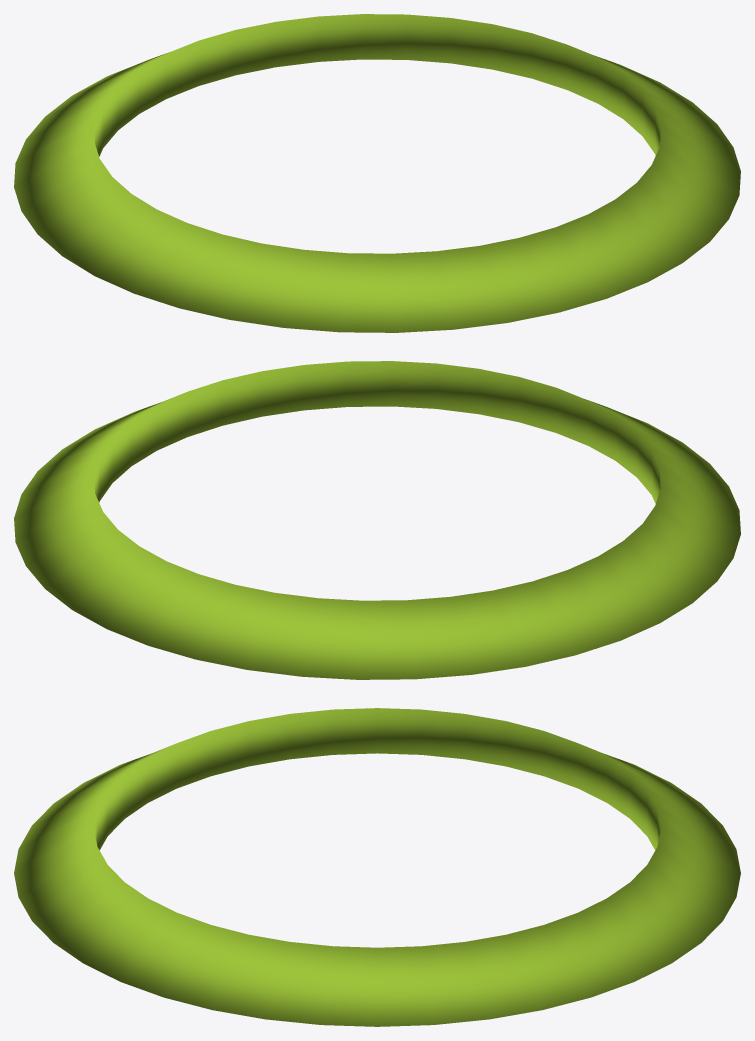
The model's file is StartRing.gltf.
3 views of the same model, one above another, from view 1: azimuth 30°, elevation 25°; view 2: azimuth 150°, elevation 25°; view 3: azimuth 270°, elevation 25° (orthographic).
Parts seen in each view (by area): view 1: Plane; view 2: Plane; view 3: Plane.
Boxes of the visible parts, x1,y1,x2,y2 form: Plane: [14, 14, 740, 332]; Plane: [14, 361, 740, 679]; Plane: [14, 708, 740, 1026].
Bounding box in the file's own units: 6.82 × 0.47 × 6.82.
